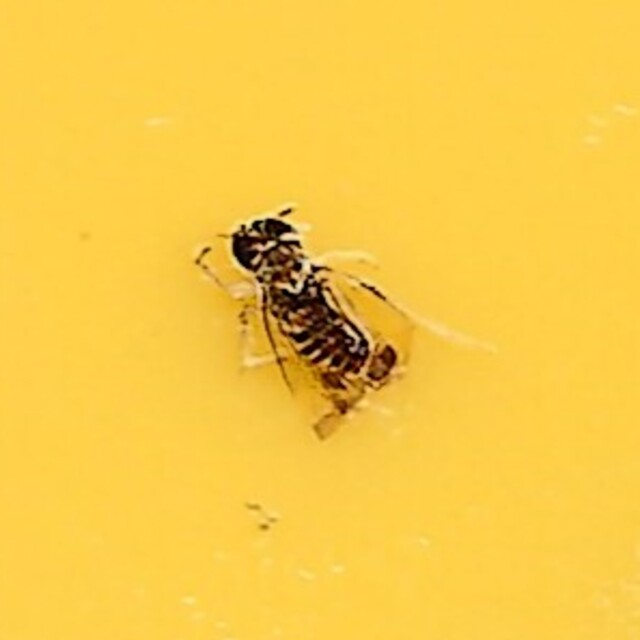Hemiptera: (215, 201, 425, 439)
